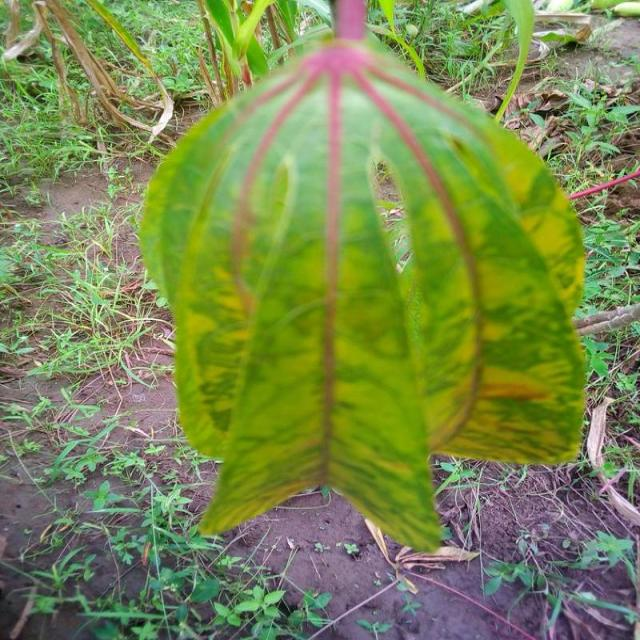cassava leaf: (137, 30, 589, 553)
